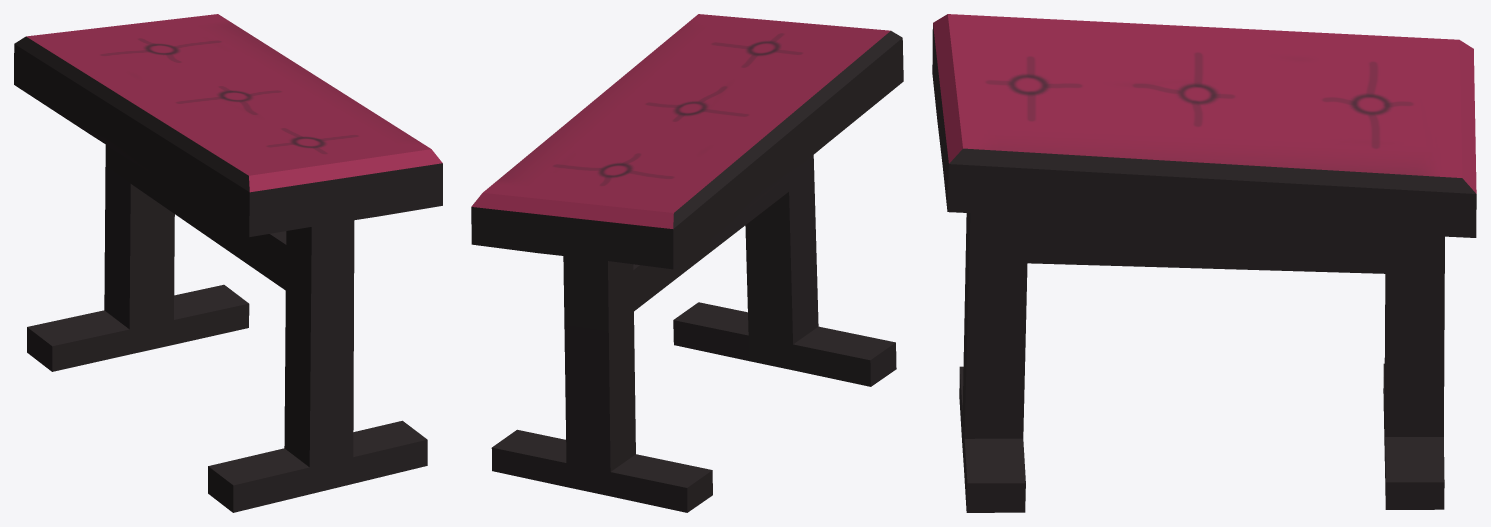
The model's file is Piano chair.fbx.
The picture shows the model from 3 angles, left to right: view 1: azimuth 30°, elevation 25°; view 2: azimuth 150°, elevation 25°; view 3: azimuth 270°, elevation 25°; orthographic projection. The views are drawn at different scales.
Visible parts, largest first — view 1: piano chair; view 2: piano chair; view 3: piano chair.
Boxes of the visible parts, x1,y1,x2,y2 form: piano chair: (14, 14, 442, 512); piano chair: (471, 14, 903, 512); piano chair: (932, 14, 1476, 512).
Size of the model in its own units: 32.4 by 50.72 by 63.52.
